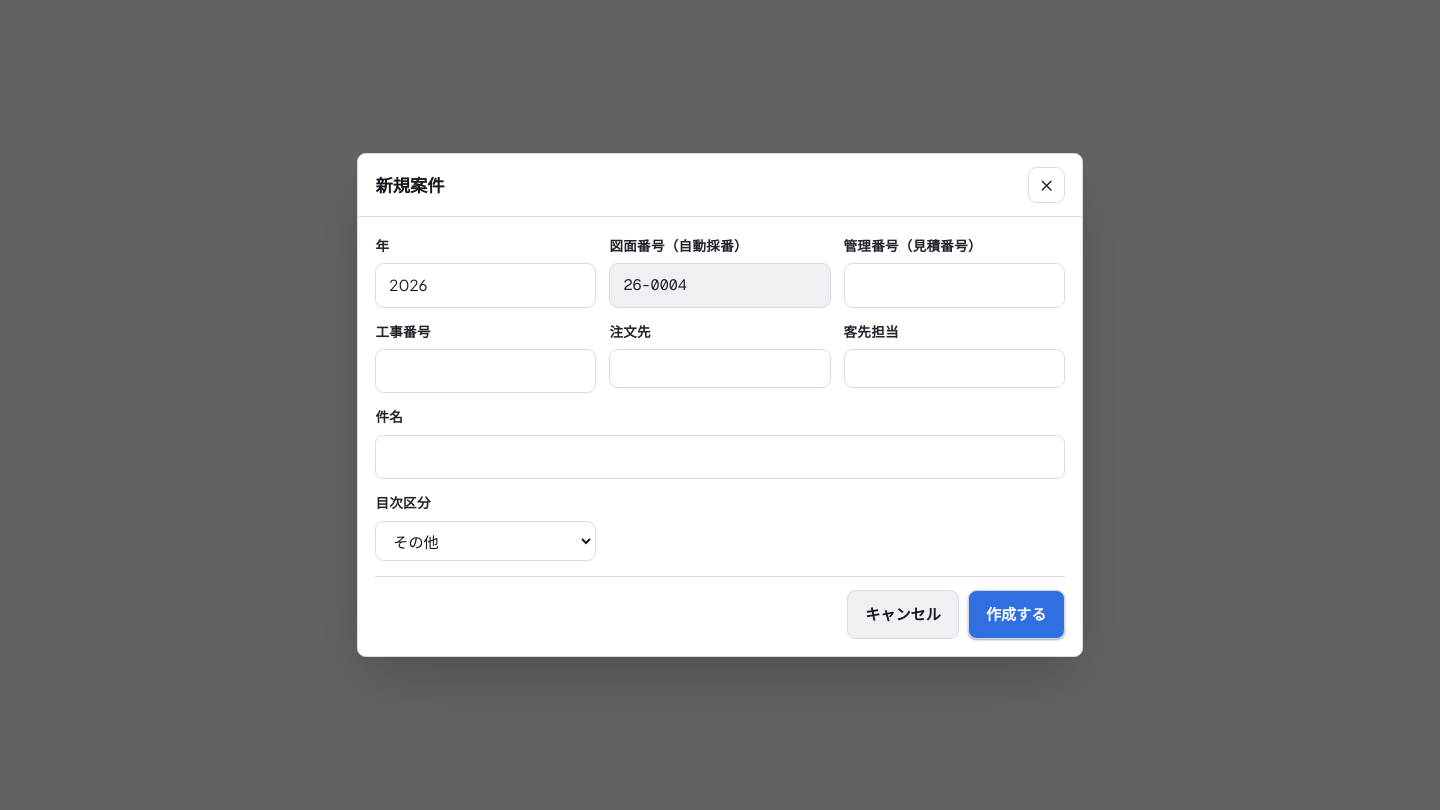
it: NewCaseModal — 作成 failure never leaves the button spinning forever › stops the loading spinner and shows an error message when create() rejects (e.g. a duplicate 図面番号/sequence_no from the server)
The width and height of the screenshot is (1440, 810).
Click the button "作成する" at coordinates (1016, 615), box [968, 590, 1065, 639]
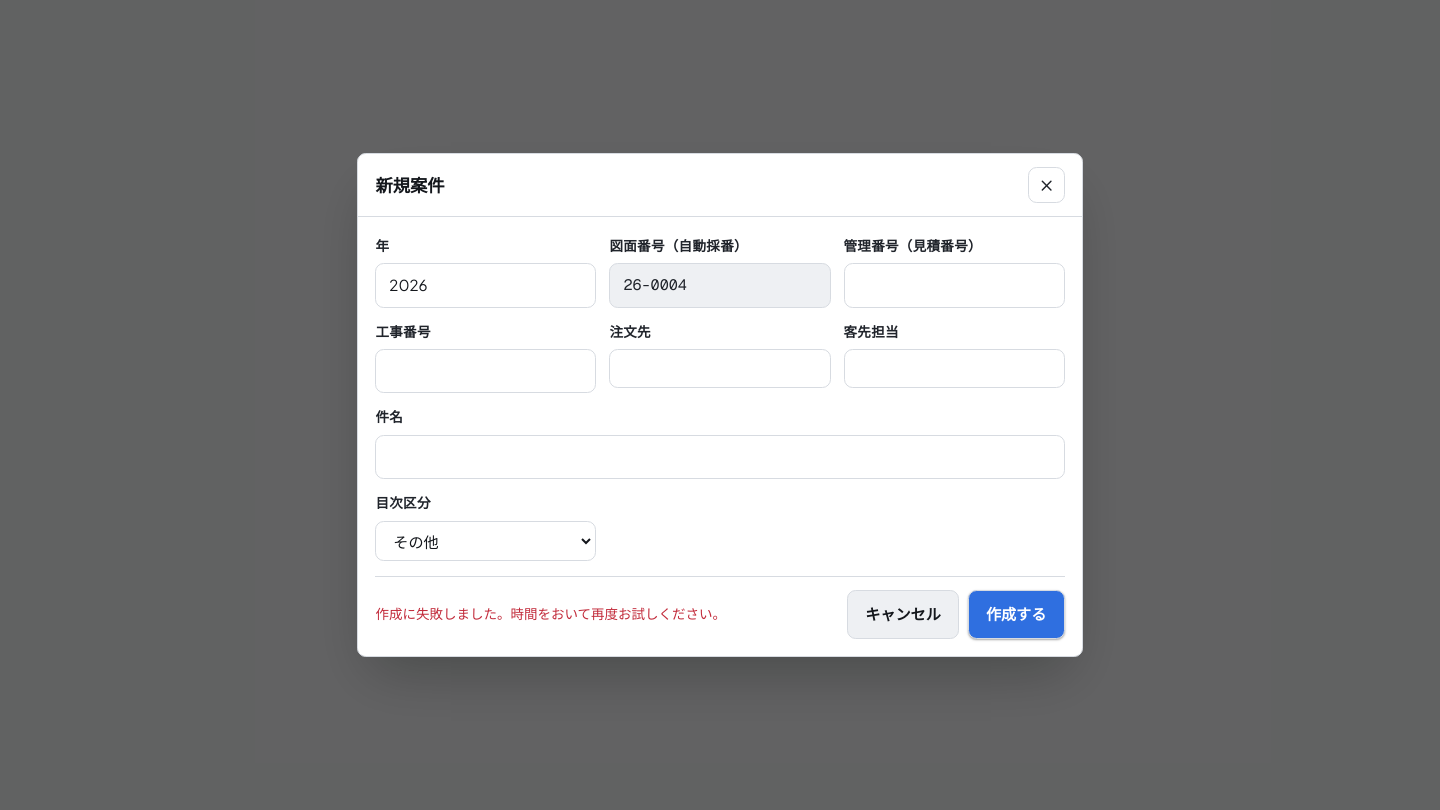
Result: the text "作成に失敗しました。時間をおいて再度お試しください。" is shown at [375, 603, 726, 626]
